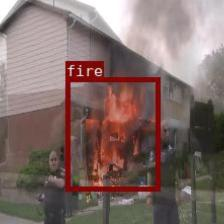fire: (65, 77, 159, 190)
